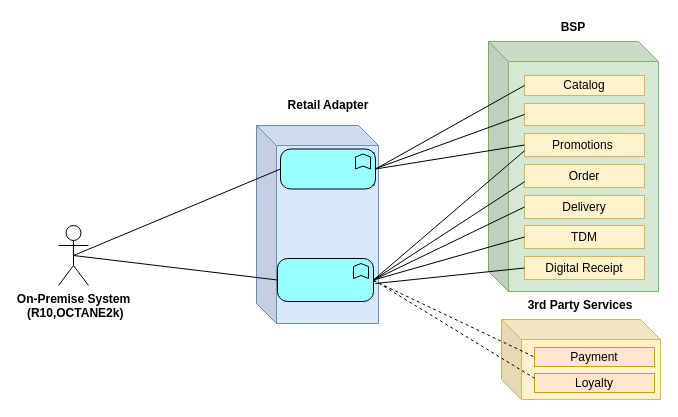
Some shapes in this 678 by 417 pixel diagram are drawn without their labels. The centre of each missing label's shape, as x and y in pixels:
"Add Items to Cart" goes at point (328, 168).
"Item Availability" goes at point (584, 114).
"Order/Transaction" goes at point (325, 280).
